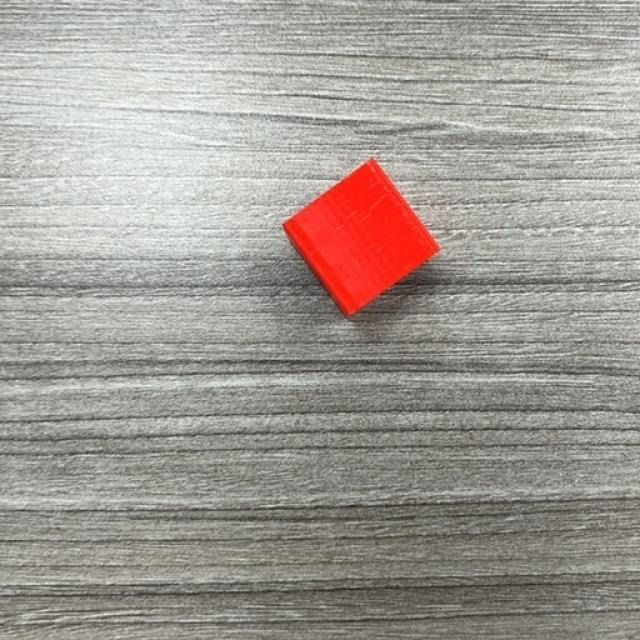Rojo: (281, 159, 442, 319)
